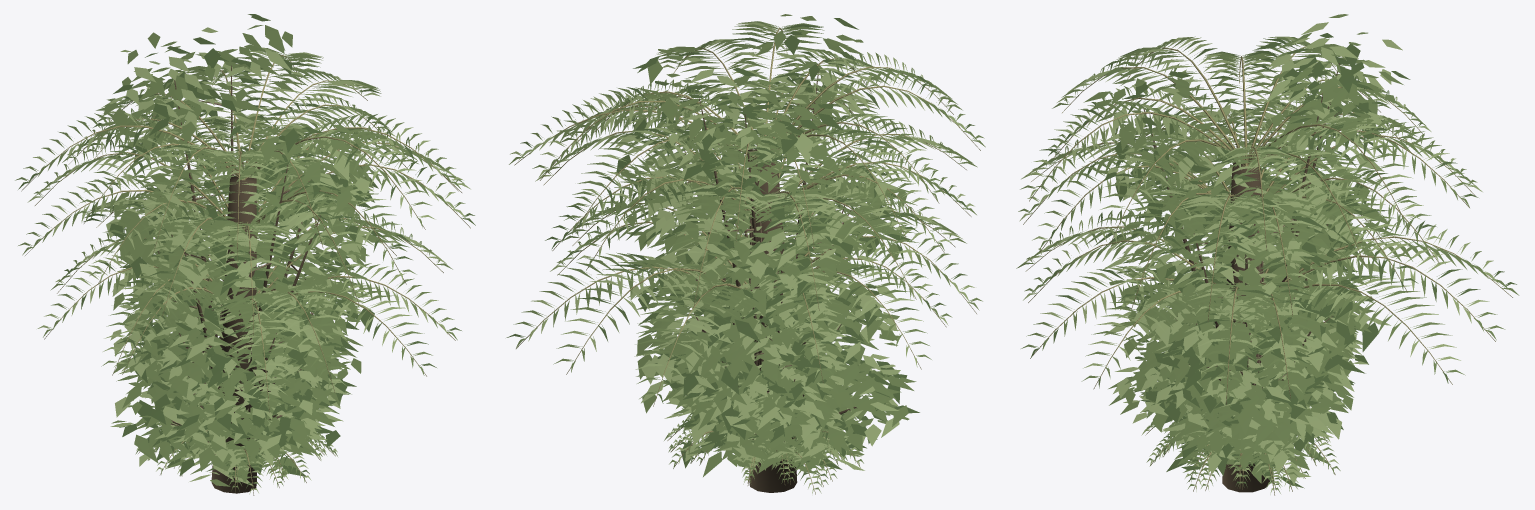
The model's file is environment.glb.
3 renders of one model, left to right at view 1: azimuth 30°, elevation 25°; view 2: azimuth 150°, elevation 25°; view 3: azimuth 270°, elevation 25°, orthographic. The views are drawn at different scales.
Visible parts, largest first — view 1: leaf_understory.002, leaf_fronds.005, leaf_understory.001, leaf_fronds.003, leaf_understory, leaf_fronds.001, bark_fibrous_stem.002, leaf_fronds.004, leaf_fronds, leaf_fronds.002; view 2: leaf_understory.002, leaf_understory, leaf_fronds.005, leaf_understory.001, leaf_fronds.003, leaf_fronds.001, bark_fibrous_stem.002, leaf_fronds.004, leaf_fronds, leaf_fronds.002; view 3: leaf_understory.002, leaf_fronds.005, leaf_understory.001, leaf_fronds.001, leaf_understory, leaf_fronds.003, bark_fibrous_stem.002, leaf_fronds.004, leaf_fronds.
Part boxes in pixels (x1,y1,x2,y2): leaf_understory.002: [96, 14, 389, 434]; leaf_fronds.005: [15, 47, 463, 256]; leaf_understory.001: [112, 179, 374, 461]; leaf_fronds.003: [18, 109, 475, 331]; leaf_understory: [110, 302, 362, 486]; leaf_fronds.001: [37, 179, 461, 407]; bark_fibrous_stem.002: [211, 175, 256, 493]; leaf_fronds.004: [135, 430, 337, 491]; leaf_fronds: [177, 421, 326, 494]; leaf_fronds.002: [147, 430, 322, 487]; leaf_understory.002: [614, 14, 911, 413]; leaf_understory: [636, 311, 919, 476]; leaf_fronds.005: [509, 21, 985, 240]; leaf_understory.001: [627, 216, 899, 460]; leaf_fronds.003: [535, 83, 977, 305]; leaf_fronds.001: [506, 184, 982, 403]; bark_fibrous_stem.002: [749, 159, 797, 492]; leaf_fronds.004: [664, 414, 841, 493]; leaf_fronds: [668, 412, 857, 483]; leaf_fronds.002: [683, 426, 863, 482]; leaf_understory.002: [1083, 14, 1410, 418]; leaf_fronds.005: [1020, 36, 1478, 264]; leaf_understory.001: [1103, 183, 1390, 454]; leaf_fronds.001: [1016, 175, 1519, 399]; leaf_understory: [1108, 293, 1368, 488]; leaf_fronds.003: [1018, 100, 1482, 316]; bark_fibrous_stem.002: [1222, 162, 1269, 491]; leaf_fronds.004: [1146, 416, 1330, 494]; leaf_fronds: [1141, 414, 1340, 491].
Bounding box in the file's own units: 4.37 × 4.48 × 4.55.
